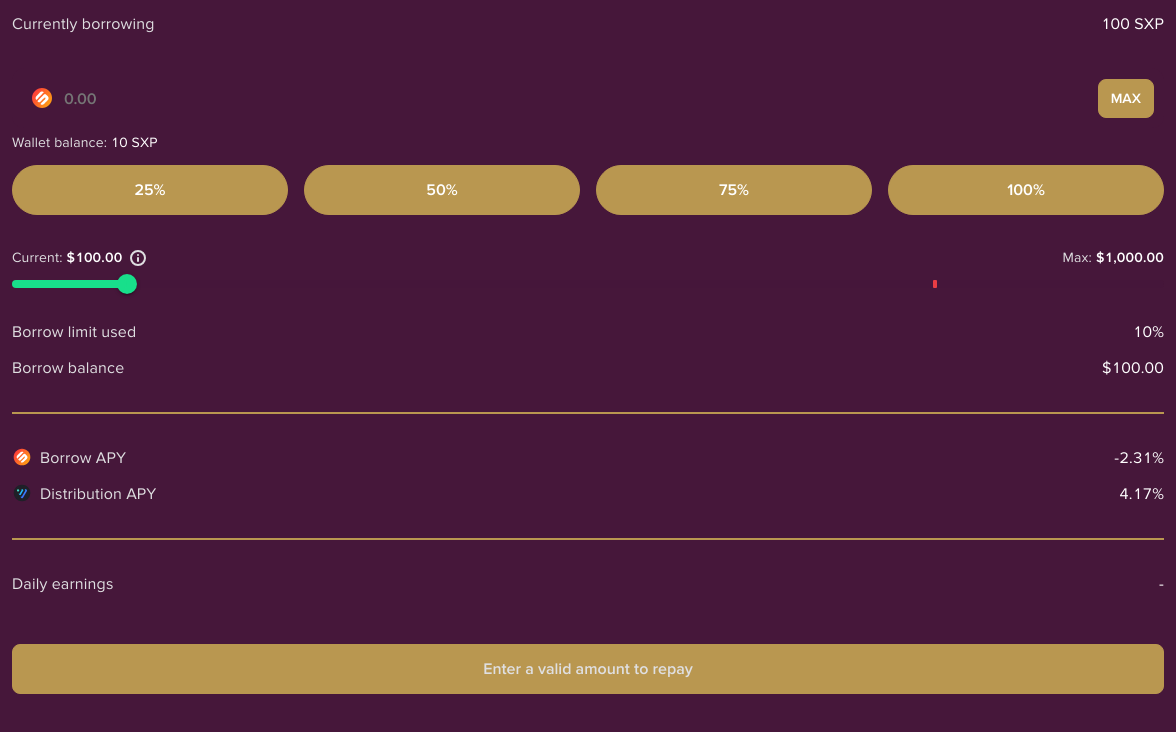
Scenario: pages/Dashboard/BorrowRepayModal/Repay › updates input value to token wallet balance when pressing on max button if token wallet balance is lower than token borrow balance
Expected: the text "Enter a valid amount to repay" is shown, [483,657,693,681]
Expected: the number field with test id "repay-modal-token-text-field" is empty, [62,78,1094,118]
Note: Press on max button
Click the button "MAX" at (1126,98), box [1098,78,1154,118]
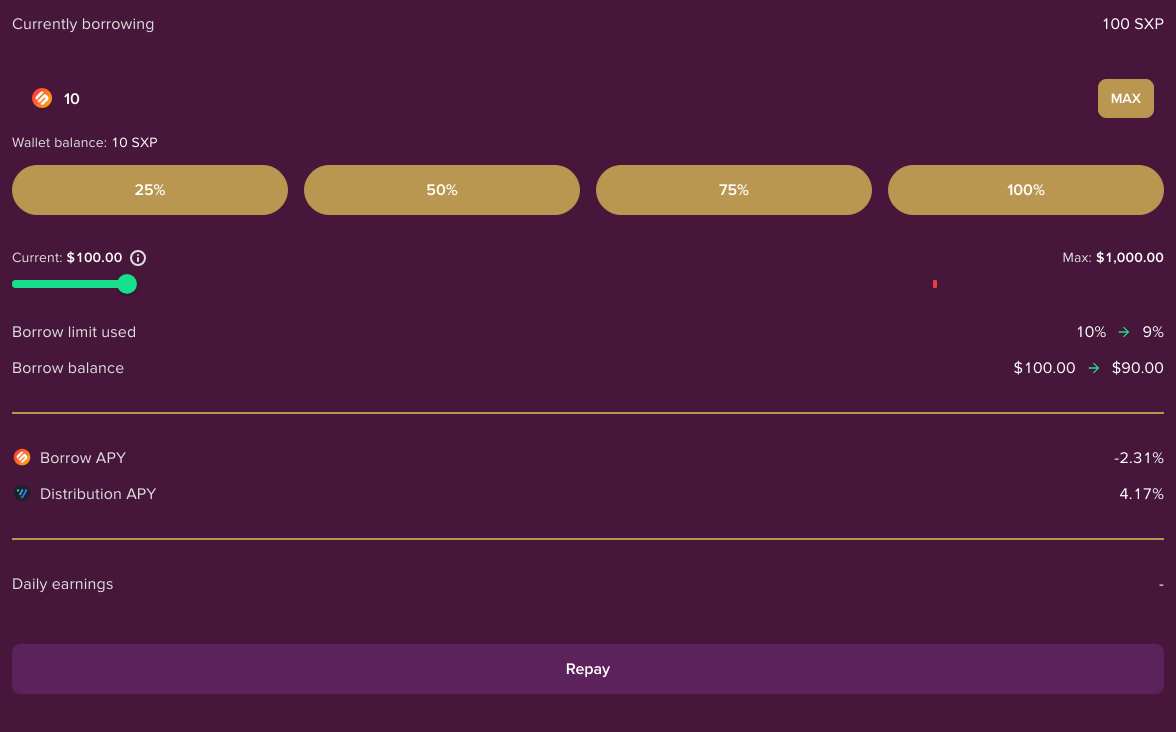
Expected: the number field with test id "repay-modal-token-text-field" holds "10", [62,78,1094,118]
Expected: the button "Repay" is enabled, [12,644,1164,694]
